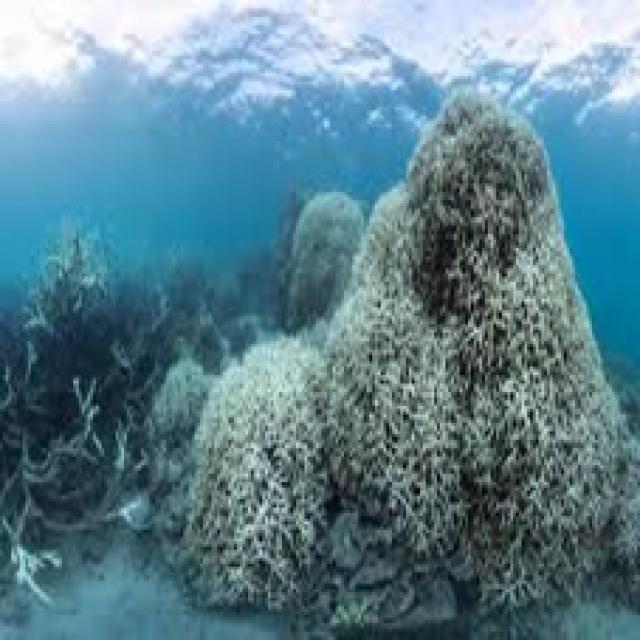Bleached: (413, 94, 638, 596), (317, 184, 466, 562), (184, 342, 325, 607), (286, 193, 362, 328)
